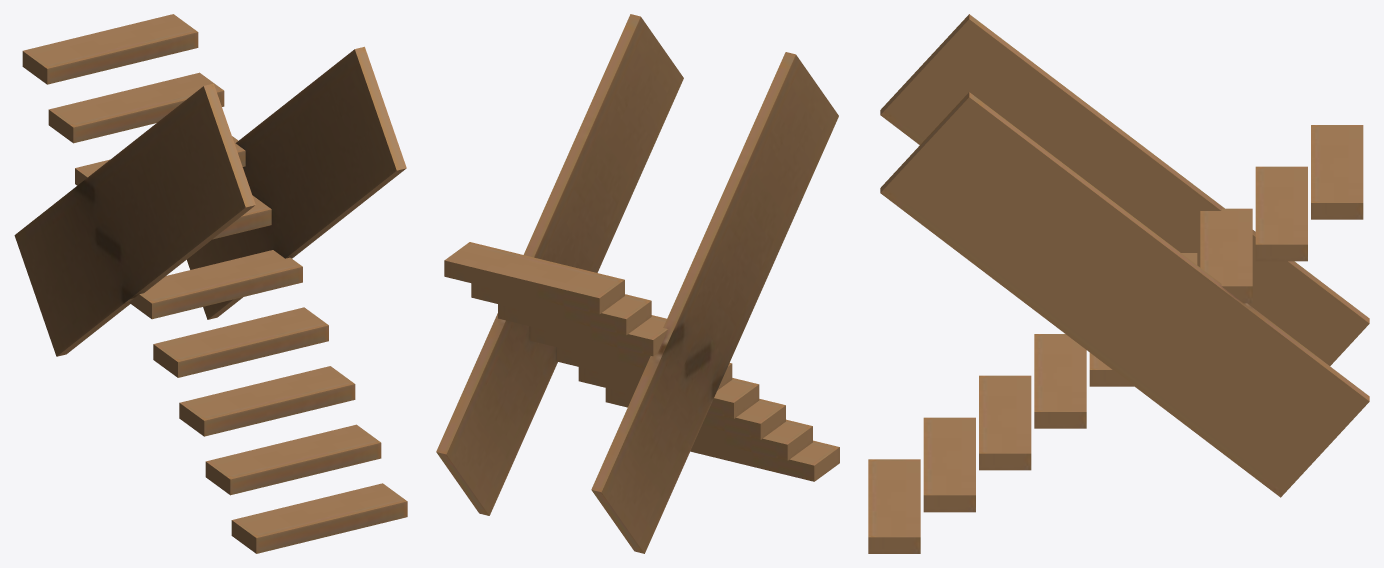
The model's file is BD_stairs.glb.
3 views of the same model, side by side, from view 1: azimuth 30°, elevation 25°; view 2: azimuth 150°, elevation 25°; view 3: azimuth 270°, elevation 25° (orthographic). The views are drawn at different scales.
Parts seen in each view (by area): view 1: BD_stairs; view 2: BD_stairs; view 3: BD_stairs.
Part boxes in pixels (x1,y1,x2,y2): BD_stairs: [14, 14, 407, 553]; BD_stairs: [436, 14, 839, 553]; BD_stairs: [868, 14, 1369, 553].
Bounding box in the file's own units: 1.28 × 3.3 × 3.26.
Materials: 1 (1 with a texture image).
